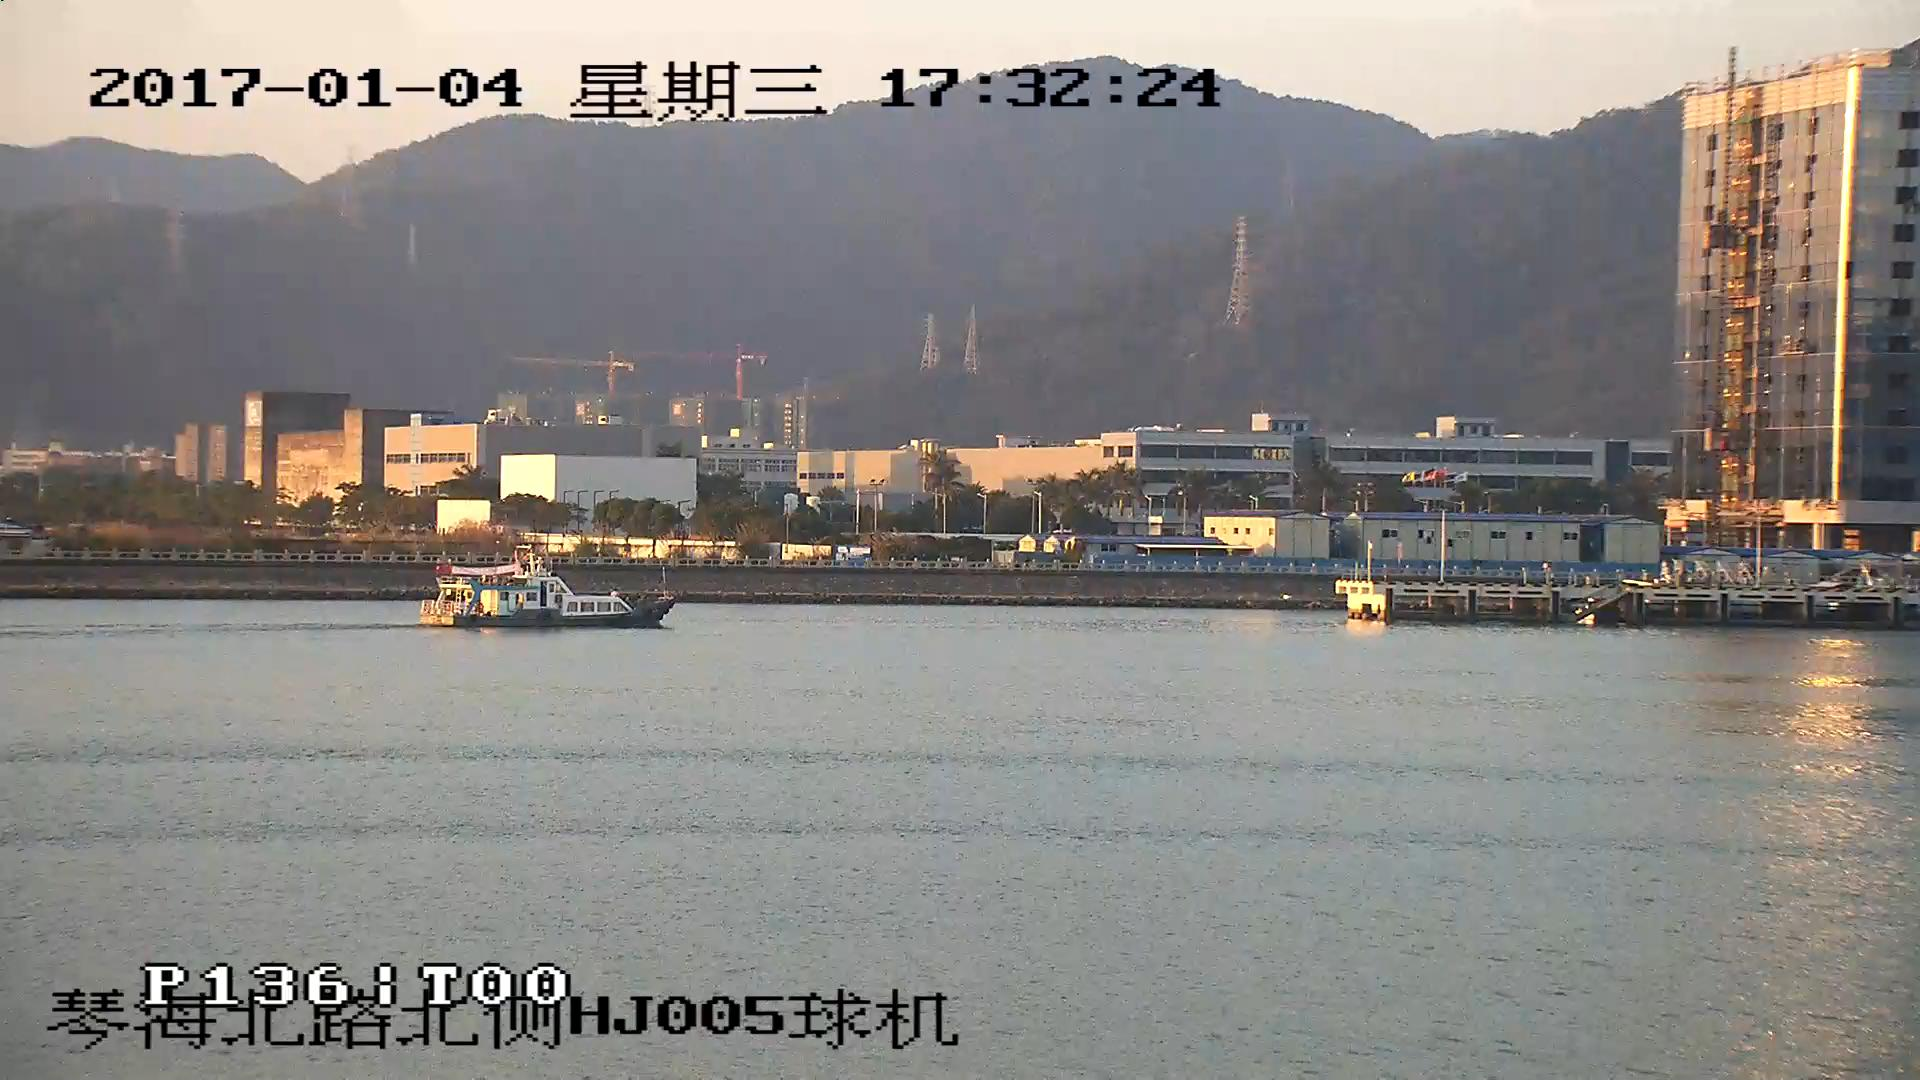fishing boat: (424, 550, 670, 628)
